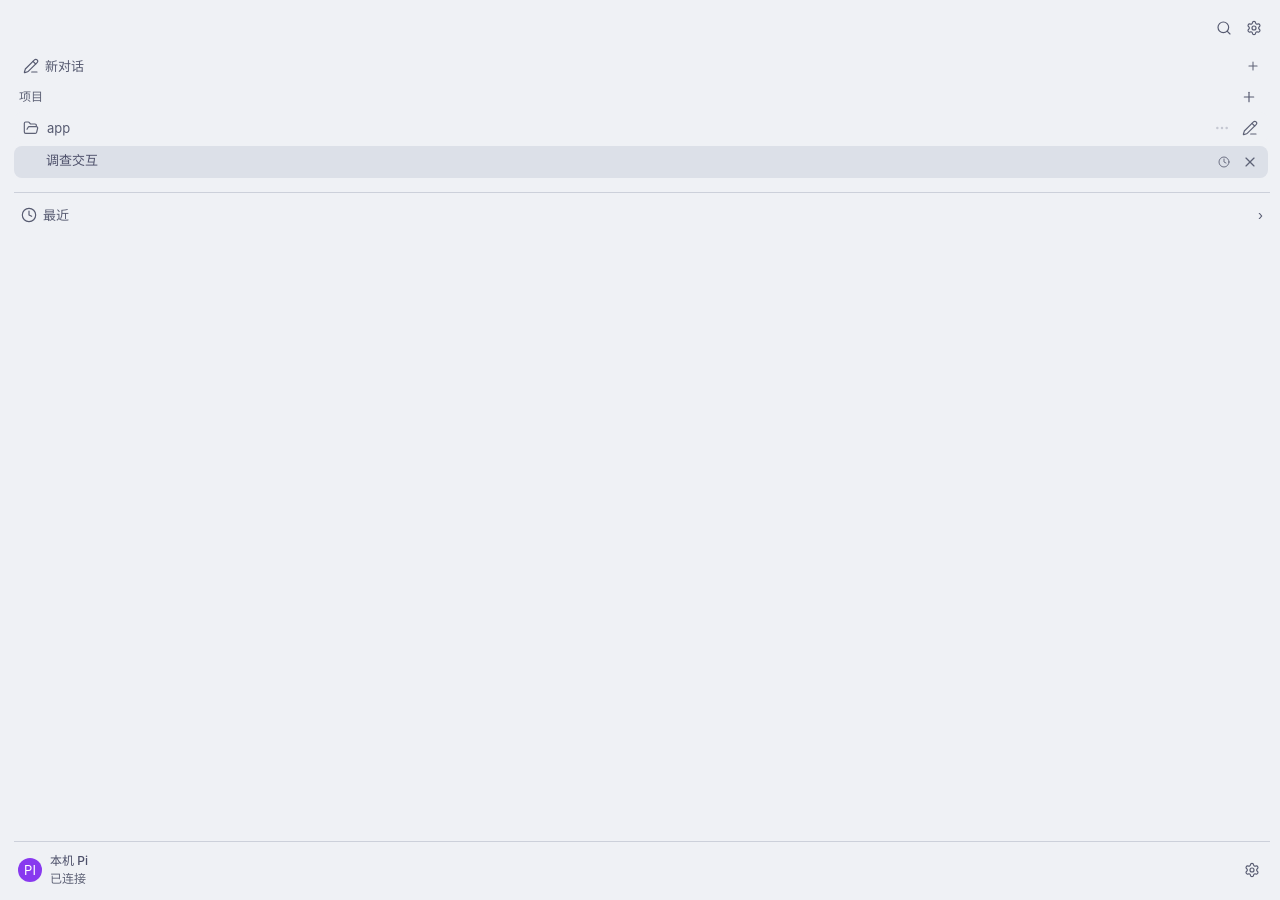
Test: production sidebar collapses and restores a project session list
Click the button with aria-label "折叠 app". click: click(31, 128)
box: [14,112,1268,144]
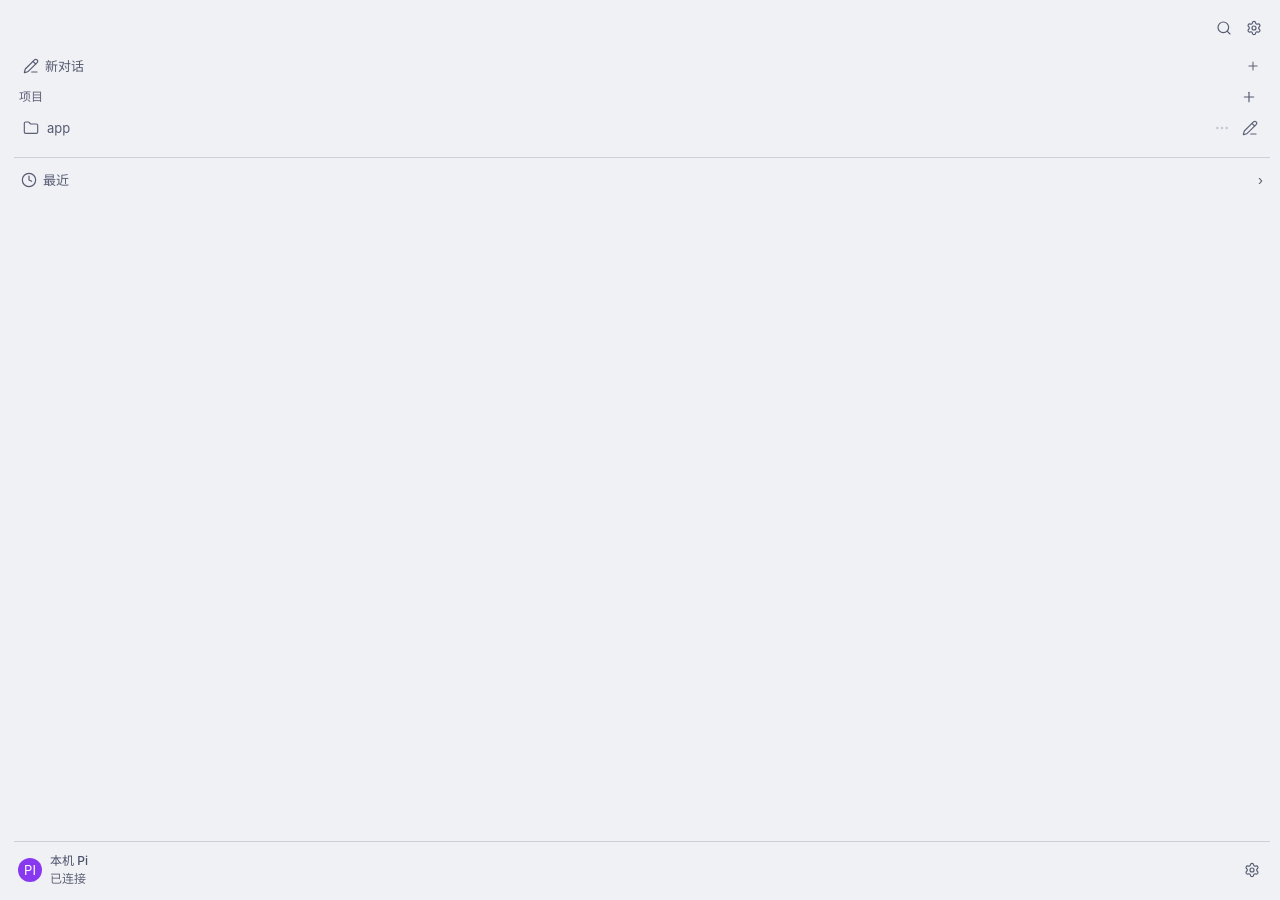
Expected: the button "调查交互" is gone
Click the button with aria-label "展开 app". click: click(31, 128)
box: [14,112,1268,144]
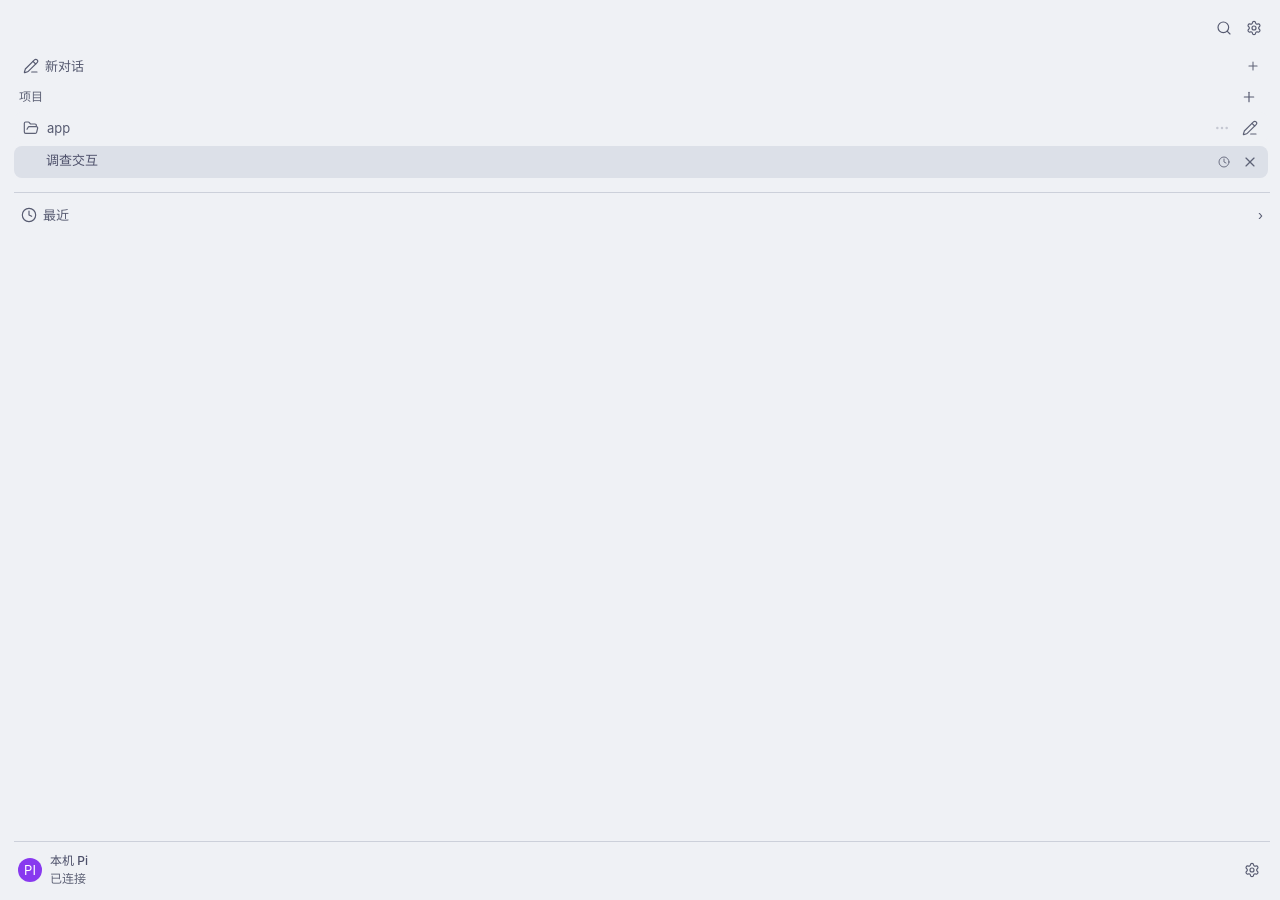
Expected: the button "调查交互" is shown, [46,152,98,168]
